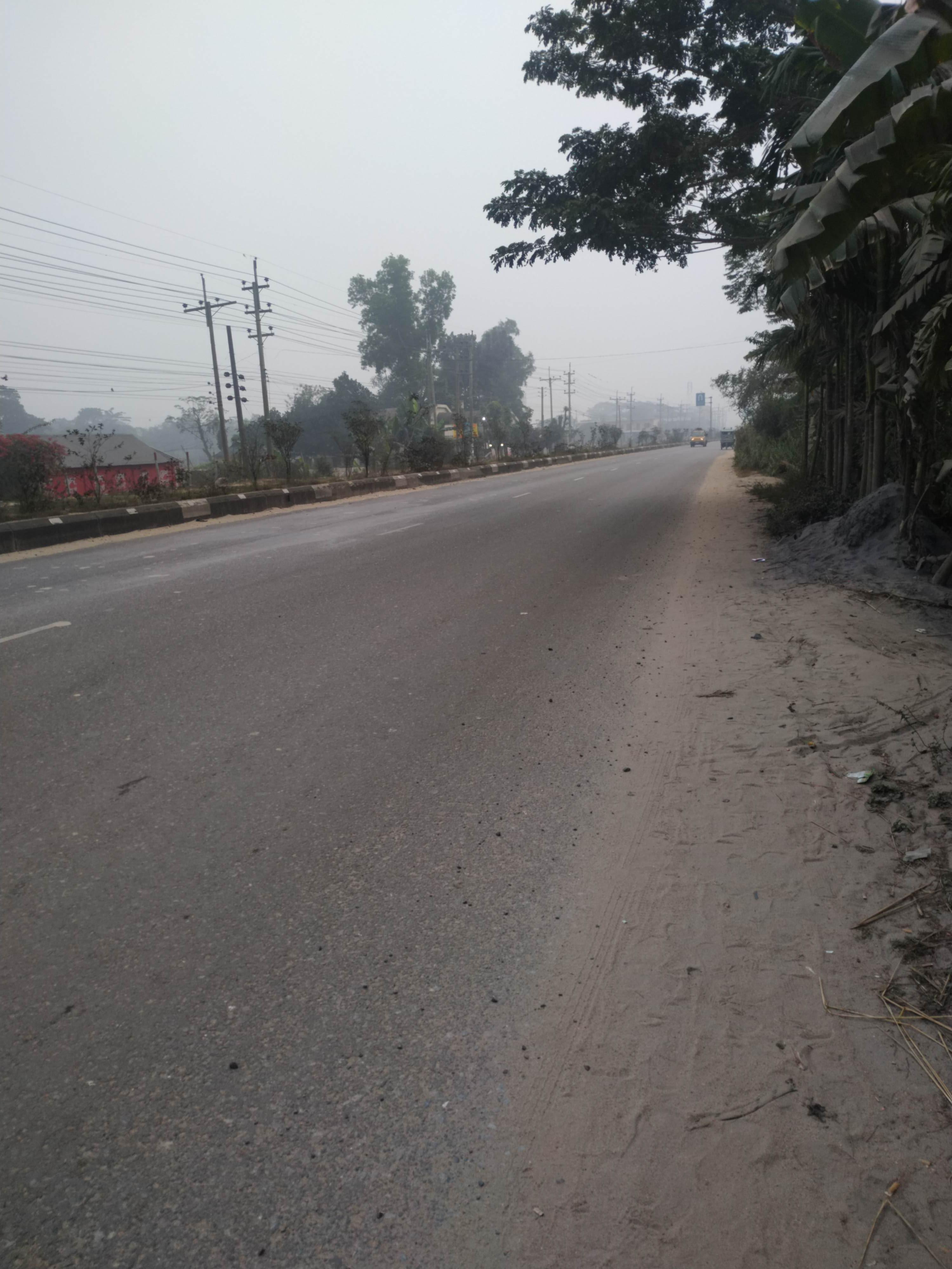Car: (712, 422, 744, 457)
Truck: (678, 420, 707, 455)
